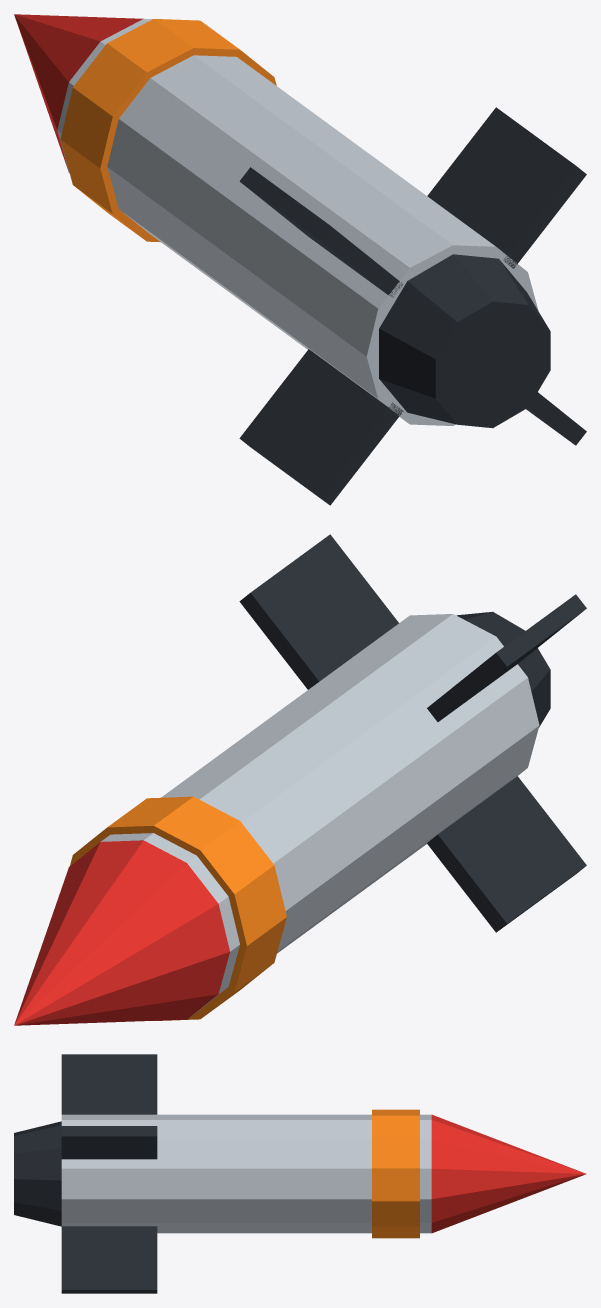
Rendered from launcher_missile.glb.
3 views of the same model, one above another, from view 1: azimuth 30°, elevation 25°; view 2: azimuth 150°, elevation 25°; view 3: azimuth 270°, elevation 25° (orthographic). The views are drawn at different scales.
Visible parts, largest first — view 1: missile_mesh; view 2: missile_mesh; view 3: missile_mesh.
Boxes of the visible parts, <box> form: missile_mesh: <box>14,14,586,505</box>; missile_mesh: <box>14,534,586,1025</box>; missile_mesh: <box>14,1054,586,1293</box>.
Size of the model in its own units: 0.3098 by 0.3098 by 0.96.
